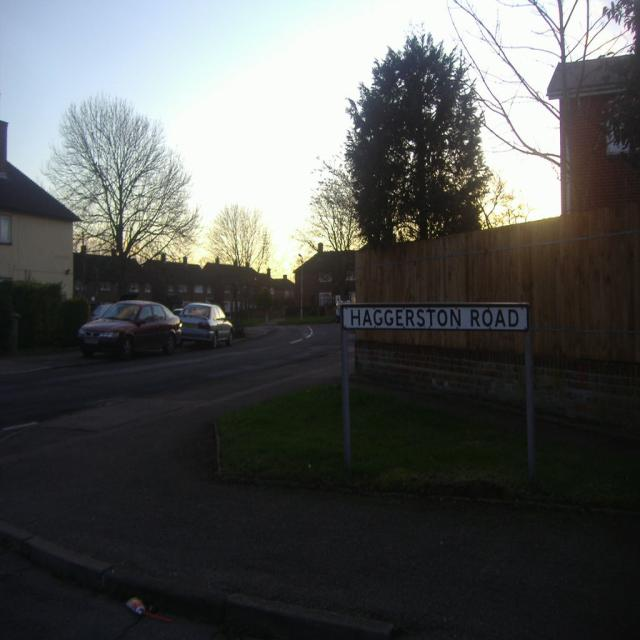car: (78, 297, 181, 361)
